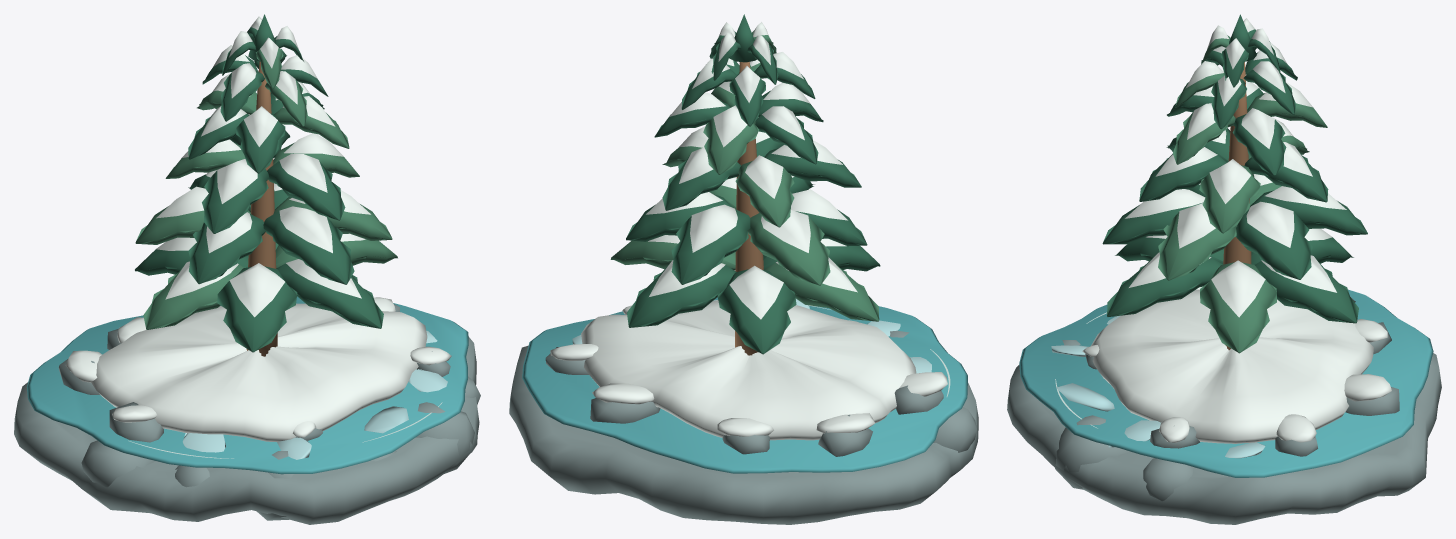
File: snowy-island-v4.glb
3 views of the same model, side by side, from view 1: azimuth 30°, elevation 25°; view 2: azimuth 150°, elevation 25°; view 3: azimuth 270°, elevation 25° (orthographic).
Parts seen in each view (by area): view 1: Snowy | Snow | soft, Snowy | Rock | blue grey, Snowy | Pine | needles, Snowy | Sea | icy turquoise, Snowy | Pine | sunlit needles, Snowy | Ice | pale blue, Snowy | Pine | bark; view 2: Snowy | Snow | soft, Snowy | Rock | blue grey, Snowy | Pine | needles, Snowy | Sea | icy turquoise, Snowy | Pine | sunlit needles, Snowy | Pine | bark, Snowy | Ice | pale blue; view 3: Snowy | Snow | soft, Snowy | Rock | blue grey, Snowy | Pine | needles, Snowy | Sea | icy turquoise, Snowy | Pine | sunlit needles, Snowy | Ice | pale blue, Snowy | Pine | bark.
Part boxes in pixels (x1,y1,x2,y2): Snowy | Snow | soft: (65, 16, 451, 441); Snowy | Rock | blue grey: (14, 304, 480, 524); Snowy | Pine | needles: (135, 14, 383, 352); Snowy | Sea | icy turquoise: (26, 296, 468, 474); Snowy | Pine | sunlit needles: (135, 46, 397, 329); Snowy | Ice | pale blue: (182, 330, 447, 459); Snowy | Pine | bark: (246, 61, 277, 356); Snowy | Snow | soft: (550, 22, 947, 440); Snowy | Rock | blue grey: (509, 314, 978, 524); Snowy | Pine | needles: (626, 14, 880, 354); Snowy | Sea | icy turquoise: (522, 297, 967, 473); Snowy | Pine | sunlit needles: (610, 31, 879, 321); Snowy | Pine | bark: (735, 62, 763, 355); Snowy | Ice | pale blue: (572, 299, 931, 373); Snowy | Snow | soft: (1082, 18, 1391, 443); Snowy | Rock | blue grey: (1007, 296, 1441, 524); Snowy | Pine | needles: (1102, 14, 1367, 323); Snowy | Sea | icy turquoise: (1019, 289, 1433, 477); Snowy | Pine | sunlit needles: (1158, 35, 1327, 353); Snowy | Ice | pale blue: (1051, 315, 1265, 458); Snowy | Pine | bark: (1223, 62, 1251, 350).
Size of the model in its own units: 1.64 by 1.6 by 1.44.
